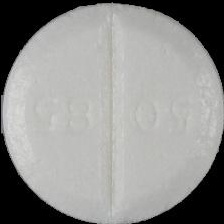0603-5336: (0, 0, 224, 224)
